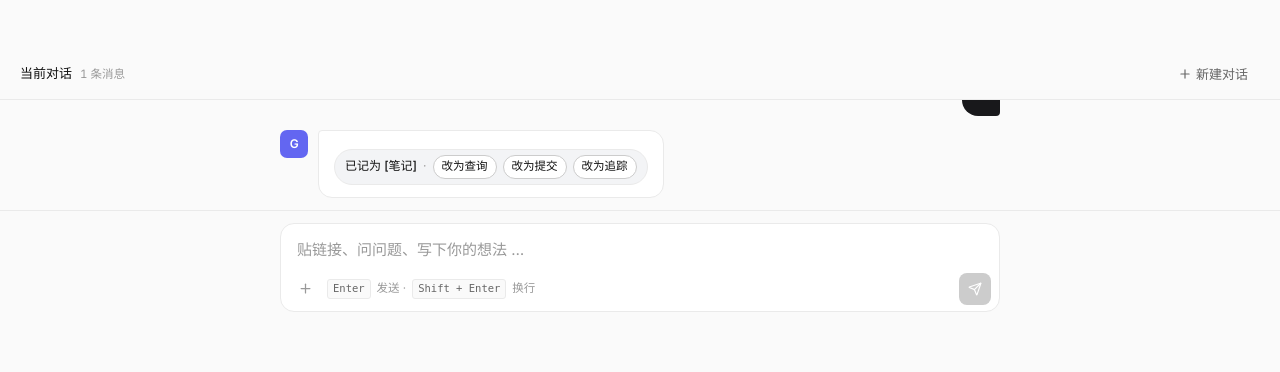
Test case: ChatView integration › reclassify fallback to new conversation navigates user via ?c=<newId> + info banner
What coordinates should you click on to do the following:
click the button "改为查询"
I would click on:
 (464, 167)
Its box is x1=432 y1=155 x2=496 y2=178.
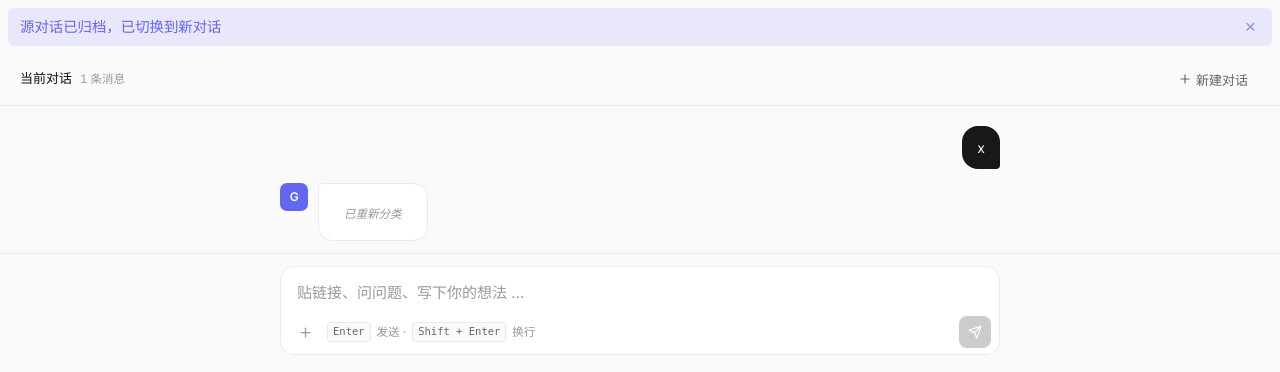
Now the message shows "源对话已归档，已切换到新对话", box x1=20 y1=18 x2=222 y2=35
